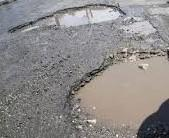pothole: (65, 43, 169, 138), (6, 4, 127, 35), (121, 17, 159, 38)
